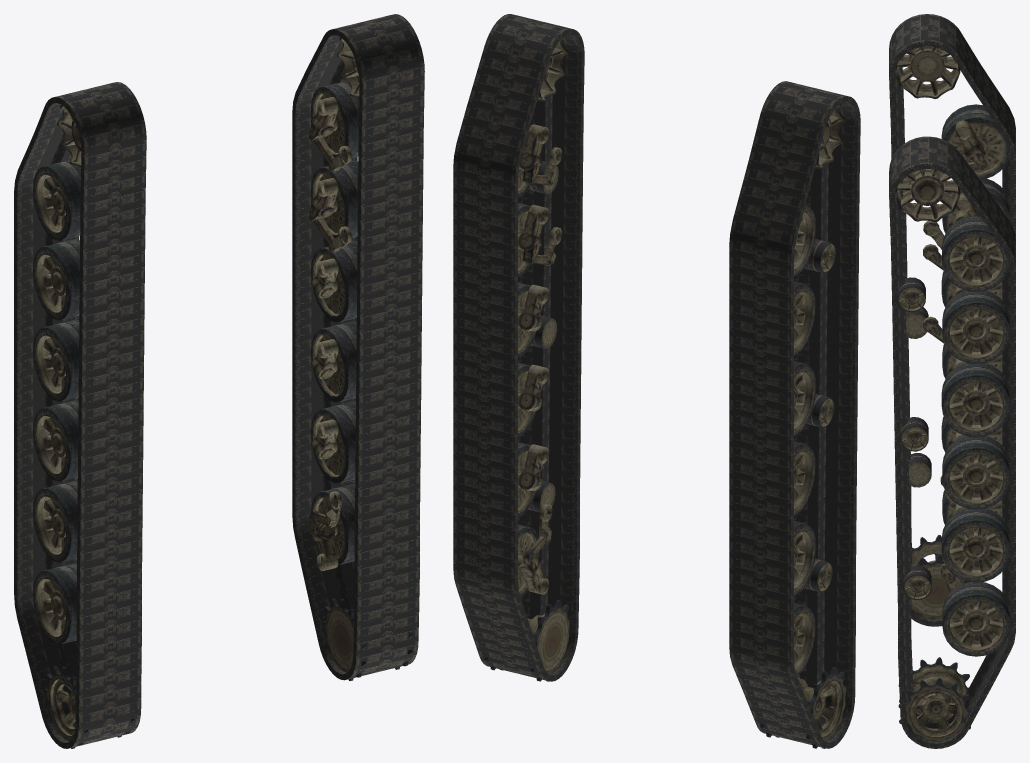
File: Chassis.glb
The picture shows the model from 3 angles, left to right: view 1: azimuth 30°, elevation 25°; view 2: azimuth 150°, elevation 25°; view 3: azimuth 270°, elevation 25°; orthographic projection. The views are drawn at different scales.
Parts seen in each view (by area): view 1: set_1_group_0, set_0_group_0, set_3_group_0, set_2_group_0; view 2: set_1_group_0, set_0_group_0, set_3_group_0, set_2_group_0; view 3: set_3_group_0, set_0_group_0, set_2_group_0, set_1_group_0.
Boxes of the visible parts, x1,y1,x2,y2 form: set_1_group_0: (14,82,146,748); set_0_group_0: (292,14,424,680); set_3_group_0: (309,37,412,680); set_2_group_0: (33,105,134,748); set_1_group_0: (729,81,860,748); set_0_group_0: (453,14,584,681); set_3_group_0: (484,37,569,681); set_2_group_0: (760,103,846,748); set_3_group_0: (895,169,1010,741); set_0_group_0: (889,136,1015,748); set_2_group_0: (895,46,1010,618); set_1_group_0: (889,14,1015,626).
Size of the model in its own units: 3.16 by 5.77 by 1.13.
Materials: 4 (4 with a texture image).
